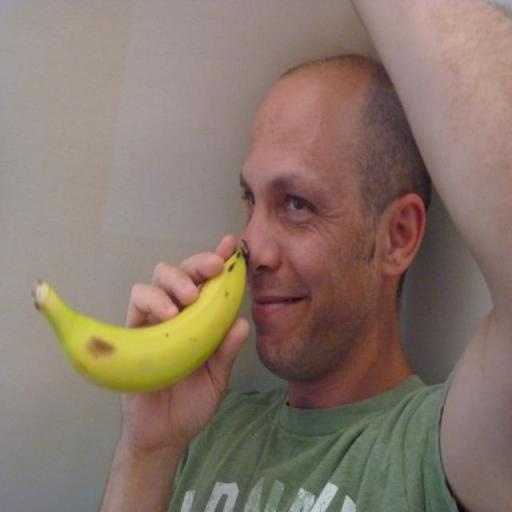fruit: (33, 249, 246, 391)
